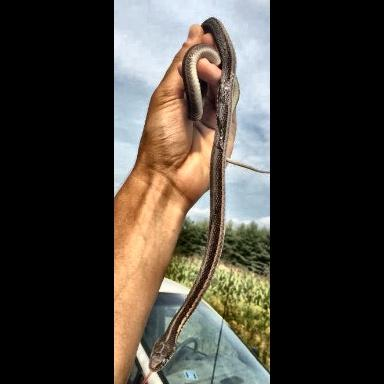snake: (149, 18, 232, 373)
